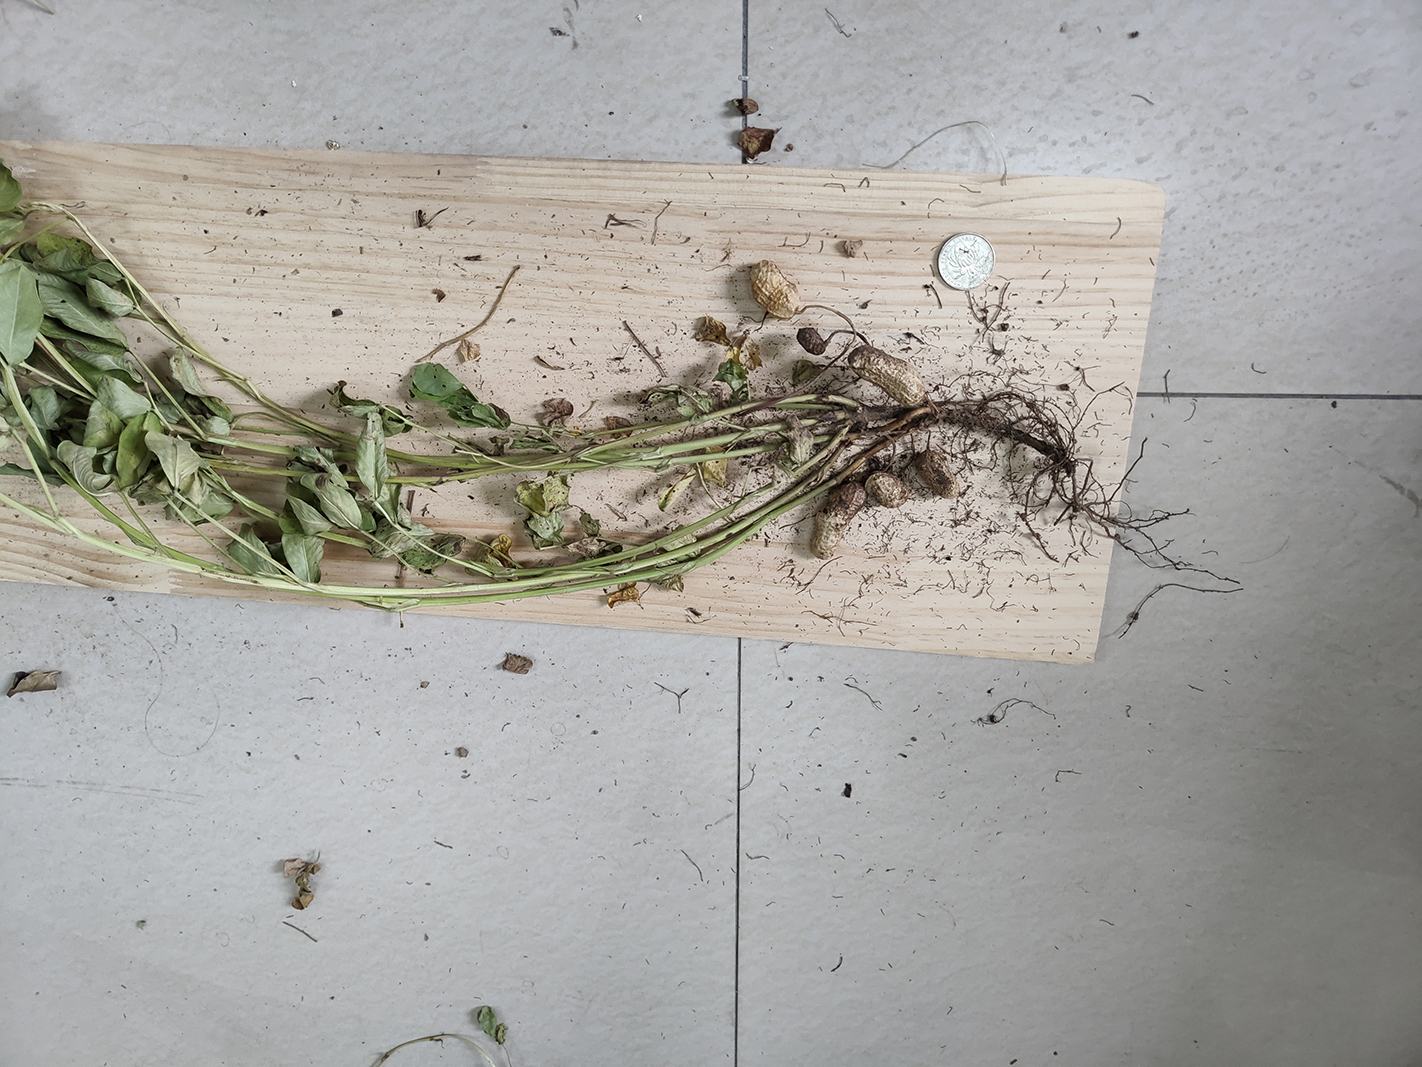h: (848, 347, 924, 405), (811, 482, 867, 559), (750, 260, 800, 317), (865, 471, 907, 508)
l: (917, 451, 958, 500), (796, 327, 827, 356)
